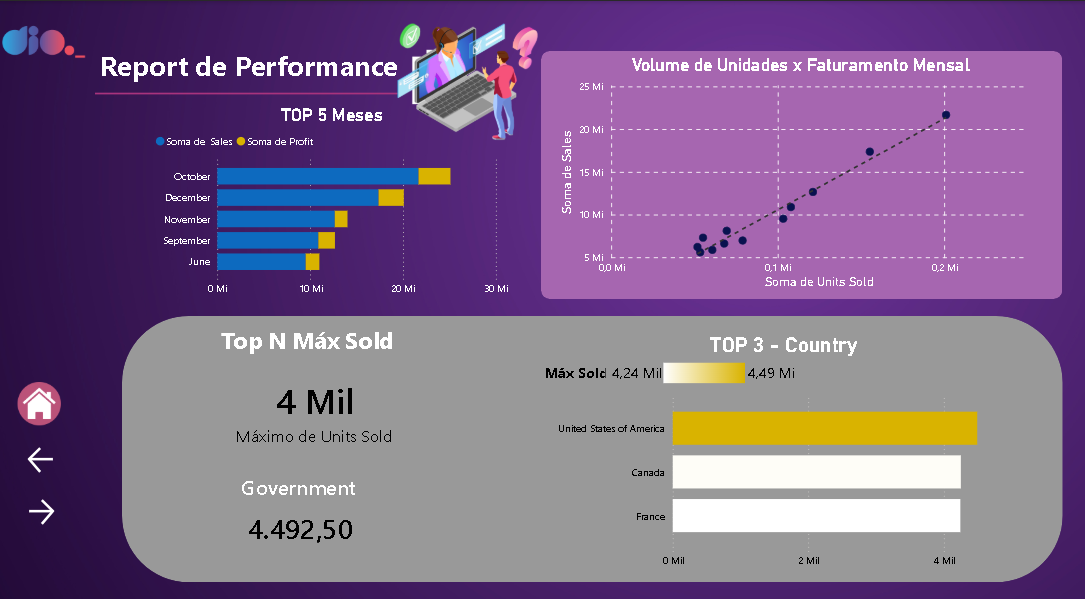

This screenshot's page, from the dashboard's own definition file:
{"tool":"powerbi","page":{"name":"Data Analytics","canvas":[1280,720],"ordinal":3},"visuals":[{"type":"image","box":[0,0,1280,720.2],"z":0},{"type":"shape","box":[146.7,386.7,1106.7,313.3],"z":1000},{"type":"image","box":[6,2,98,124],"z":2000},{"type":"shape","box":[640,75,613.3,291.7],"z":3000},{"type":"scatterChart","title":"Volume de Unidades x Faturamento Mensal","fields":{"Category":["financials.Month Name"],"X":["Sum(financials.Units Sold)"],"Y":["Sum(financials. Sales)"]},"box":[657.1,80,575.7,280],"z":4000},{"type":"barChart","title":"TOP 5 Meses","fields":{"Category":["financials.Month Name"],"Y":["Sum(financials. Sales)","Sum(financials.Profit)"]},"box":[181.4,138.6,425.7,232.9],"z":5000},{"type":"cardVisual","fields":{"Data":["Max(financials.Units Sold)"]},"box":[217.1,418.6,312.9,162.9],"z":6000},{"type":"barChart","title":"TOP 3 - Country","fields":{"Category":["financials.Country"],"Y":["Max(financials.Units Sold)"]},"box":[640,406.7,571.7,285],"z":7000},{"type":"cardVisual","fields":{"Rows":["financials.Segment"]},"box":[270,544.3,300,147.1],"z":8000},{"type":"cardVisual","fields":{"Data":["Max(financials.Units Sold)"]},"box":[265.7,598.6,255.7,72.9],"z":9000},{"type":"textbox","box":[258.6,390,271.4,55.7],"z":10000},{"type":"actionButton","box":[32,598,48,40],"z":11000},{"type":"actionButton","box":[31.7,536.7,46.7,40],"z":12000},{"type":"textbox","box":[116,64,468,62],"z":13000},{"type":"shape","box":[115.7,111.4,360,27.1],"z":14000},{"type":"image","box":[21.4,464.3,57.1,51.4],"z":15000},{"type":"actionButton","box":[21.4,457.1,57.1,61.4],"z":16000},{"type":"image","box":[467.1,28.6,172.9,165.7],"z":17000}]}

Visuals, with their boxes in screenshot pixels (x1, y1, x2, y2), scaled from the page's 1280x720 canvas onto the 1085x599 screenshot:
image: 0, 0, 1084, 598
shape: 124, 322, 1062, 582
image: 5, 2, 88, 105
shape: 542, 62, 1062, 305
"Volume de Unidades x Faturamento Mensal" scatterChart: 557, 67, 1045, 300
"TOP 5 Meses" barChart: 154, 115, 515, 309
cardVisual - Max(financials.Units Sold): 184, 348, 449, 484
"TOP 3 - Country" barChart: 542, 338, 1027, 575
cardVisual - financials.Segment: 229, 453, 483, 575
cardVisual - Max(financials.Units Sold): 225, 498, 442, 559
textbox: 219, 324, 449, 371
actionButton: 27, 498, 68, 531
actionButton: 27, 447, 66, 480
textbox: 98, 53, 495, 105
shape: 98, 93, 403, 115
image: 18, 386, 67, 429
actionButton: 18, 380, 67, 431
image: 396, 24, 542, 162
